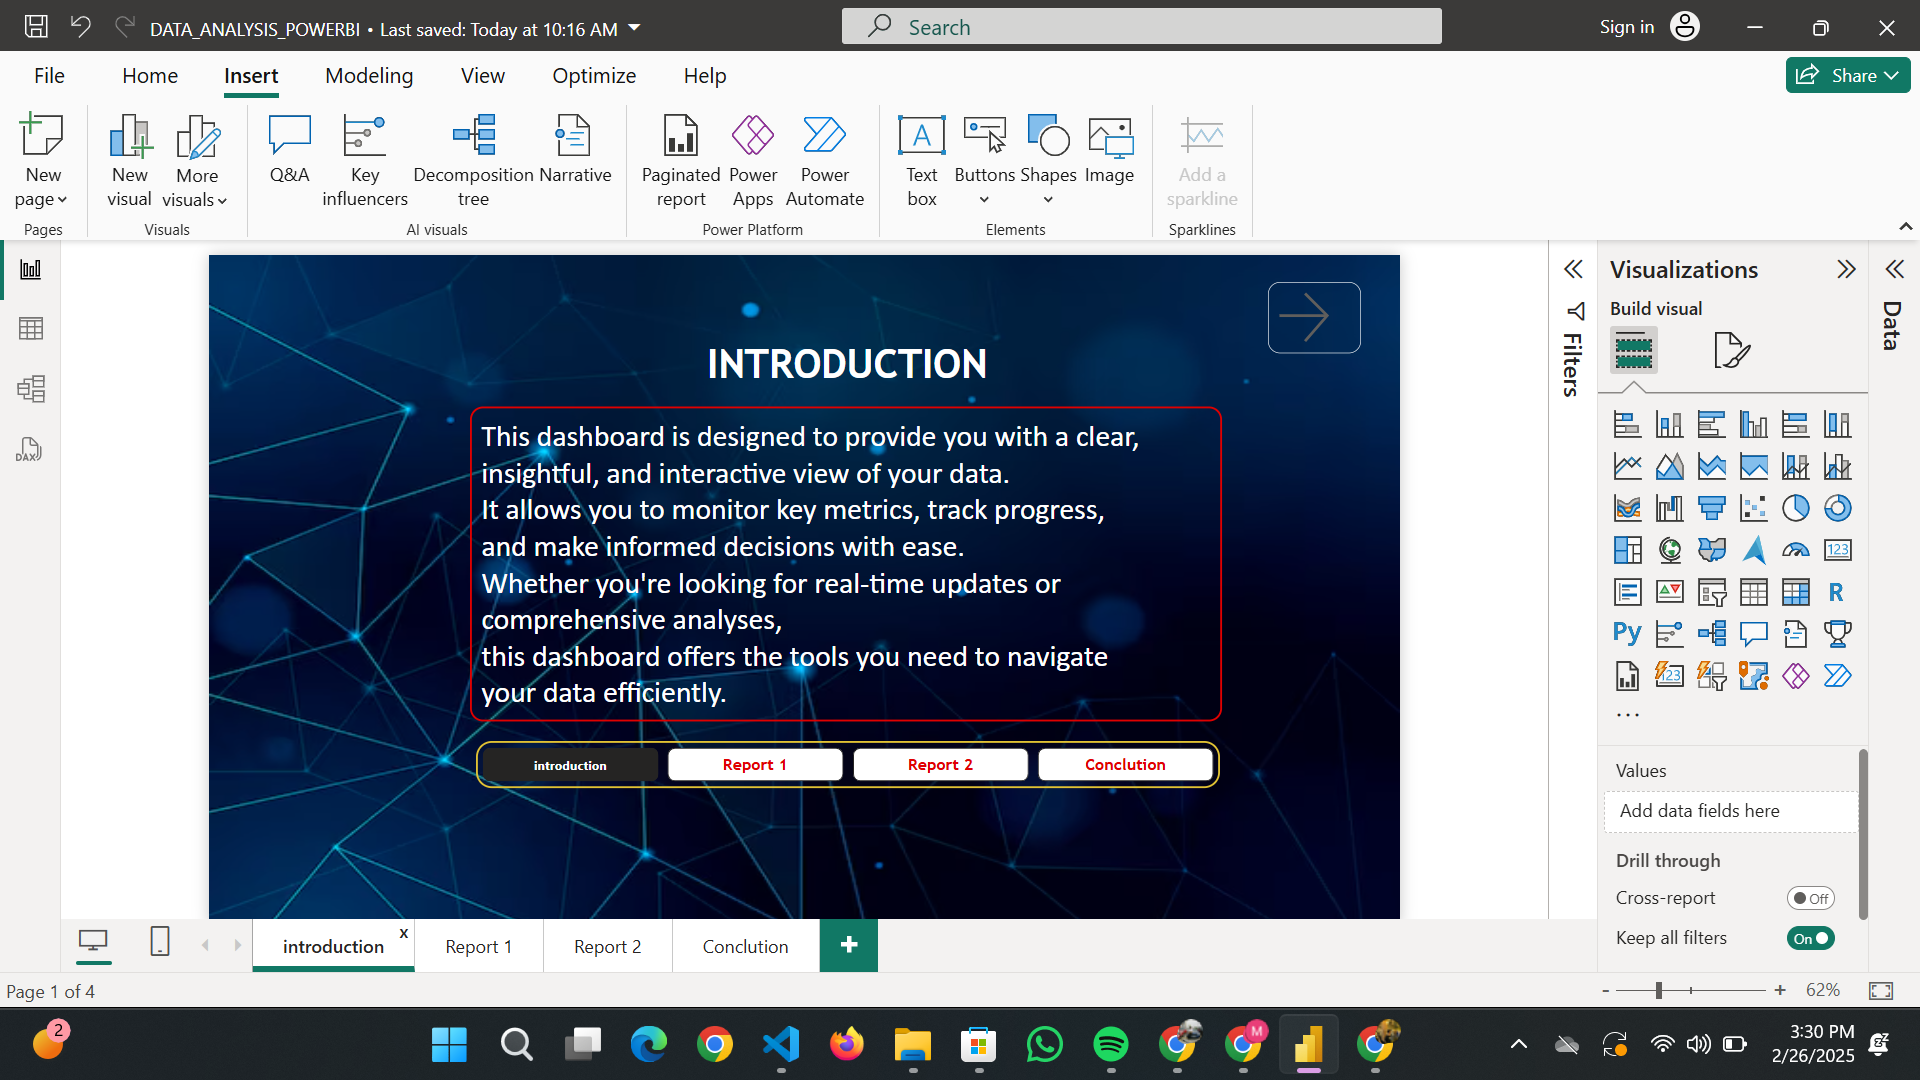

The dashboard page shown, as its layout file describes it:
{"tool":"powerbi","page":{"name":"introduction","canvas":[1280,720],"ordinal":0},"visuals":[{"type":"textbox","box":[281.4,162.7,808.5,339],"z":0},{"type":"textbox","box":[511.7,86.7,350,76.7],"z":1000},{"type":"actionButton","box":[1138.3,28.3,100,76.7],"z":1001},{"type":"pageNavigator","box":[286.4,522,800,50.8],"z":1002}]}

Visuals, with their boxes on the page's 1280x720 design canvas (x1, y1, x2, y2). These are canvas units, not pixel positions in the 1920x1080 screenshot, which may show the page scaled, cropped or inside an application window:
textbox: (281,163,1090,502)
textbox: (512,87,862,163)
actionButton: (1138,28,1238,105)
pageNavigator: (286,522,1086,573)
